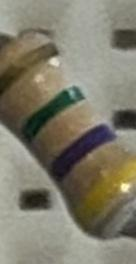Blue: (44, 118, 120, 185)
Green: (11, 78, 89, 148)
Side-Gold: (2, 35, 64, 101)
Yellow: (69, 148, 136, 231)
